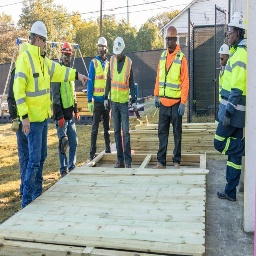helmet: (226, 14, 247, 31), (28, 20, 49, 37), (60, 44, 74, 67), (112, 35, 127, 55), (164, 25, 181, 40), (94, 35, 112, 49)
person: (18, 19, 52, 211), (216, 11, 246, 205), (153, 22, 190, 172), (109, 34, 138, 170), (53, 42, 79, 173), (90, 37, 110, 162)
vest: (14, 49, 54, 124), (224, 42, 248, 130), (156, 47, 186, 103), (111, 56, 131, 102), (92, 54, 109, 96)
